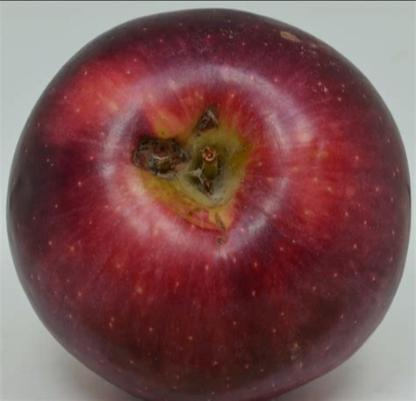defect: (126, 85, 214, 197), (271, 19, 313, 61)
